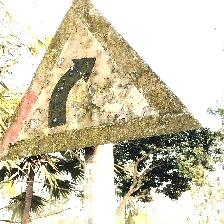Right-turn: (1, 0, 208, 161)
